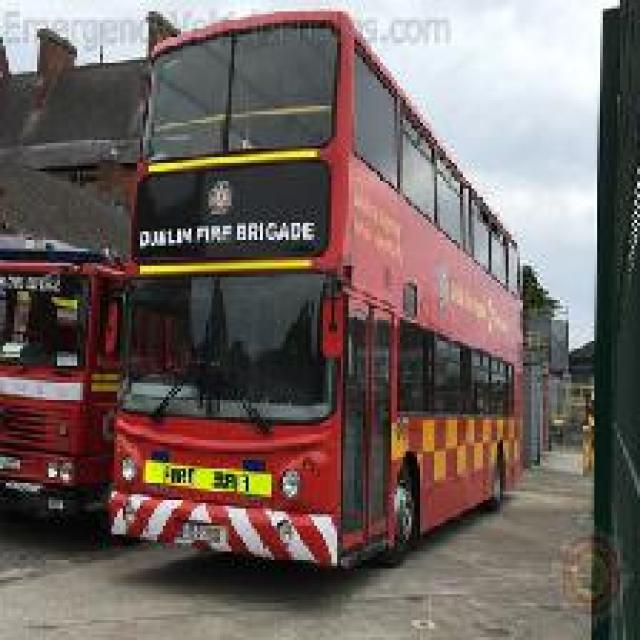Bus: (106, 6, 526, 571), (0, 228, 131, 522)
